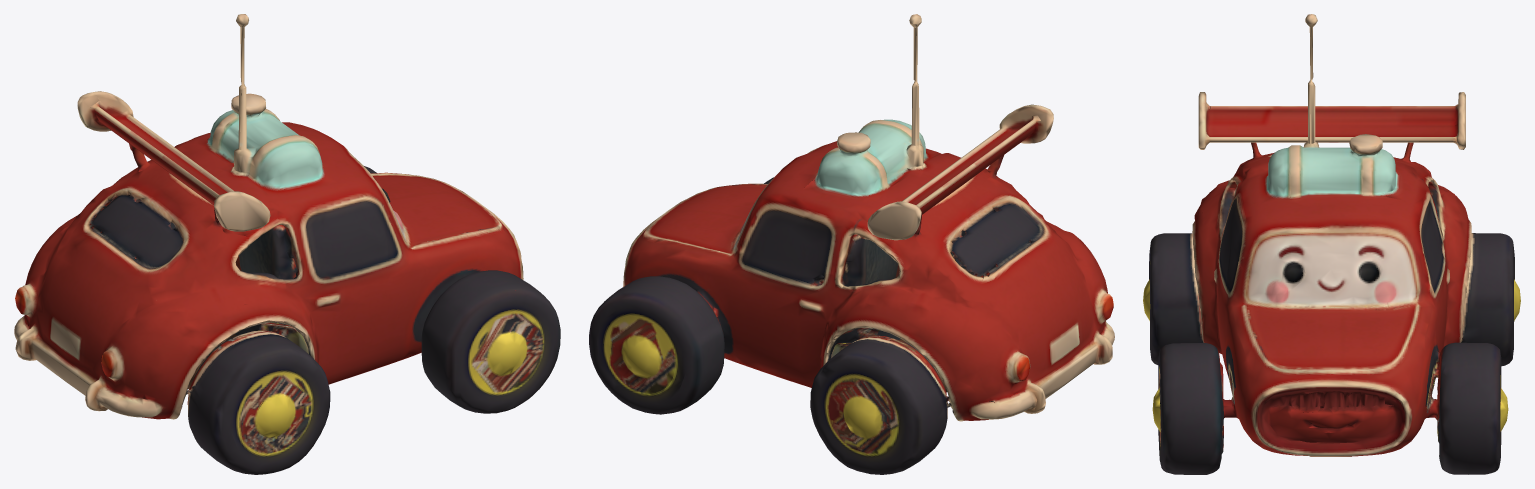
3 views of the same model, side by side, from view 1: azimuth 30°, elevation 25°; view 2: azimuth 150°, elevation 25°; view 3: azimuth 270°, elevation 25° (orthographic). The views are drawn at different scales.
Visible parts, largest first — view 1: repaired; view 2: repaired; view 3: repaired.
Boxes of the visible parts, x1,y1,x2,y2 form: repaired: (14,14,560,474); repaired: (589,14,1114,474); repaired: (1143,14,1520,474).
Size of the model in its own units: 0.9988 by 0.85 by 0.7872.
Materials: 1 (1 with a texture image).
